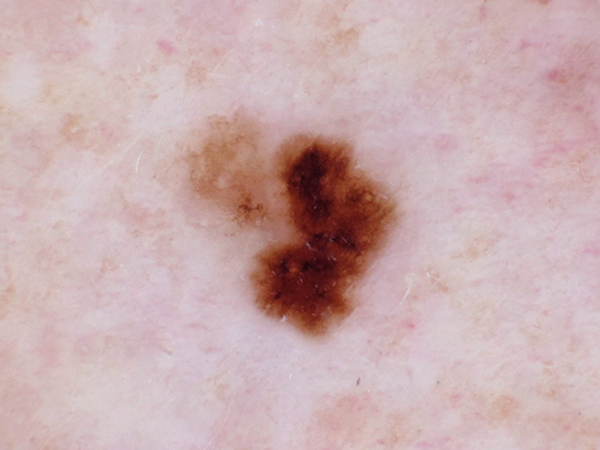Detected Lesion: (177, 111, 404, 353)
